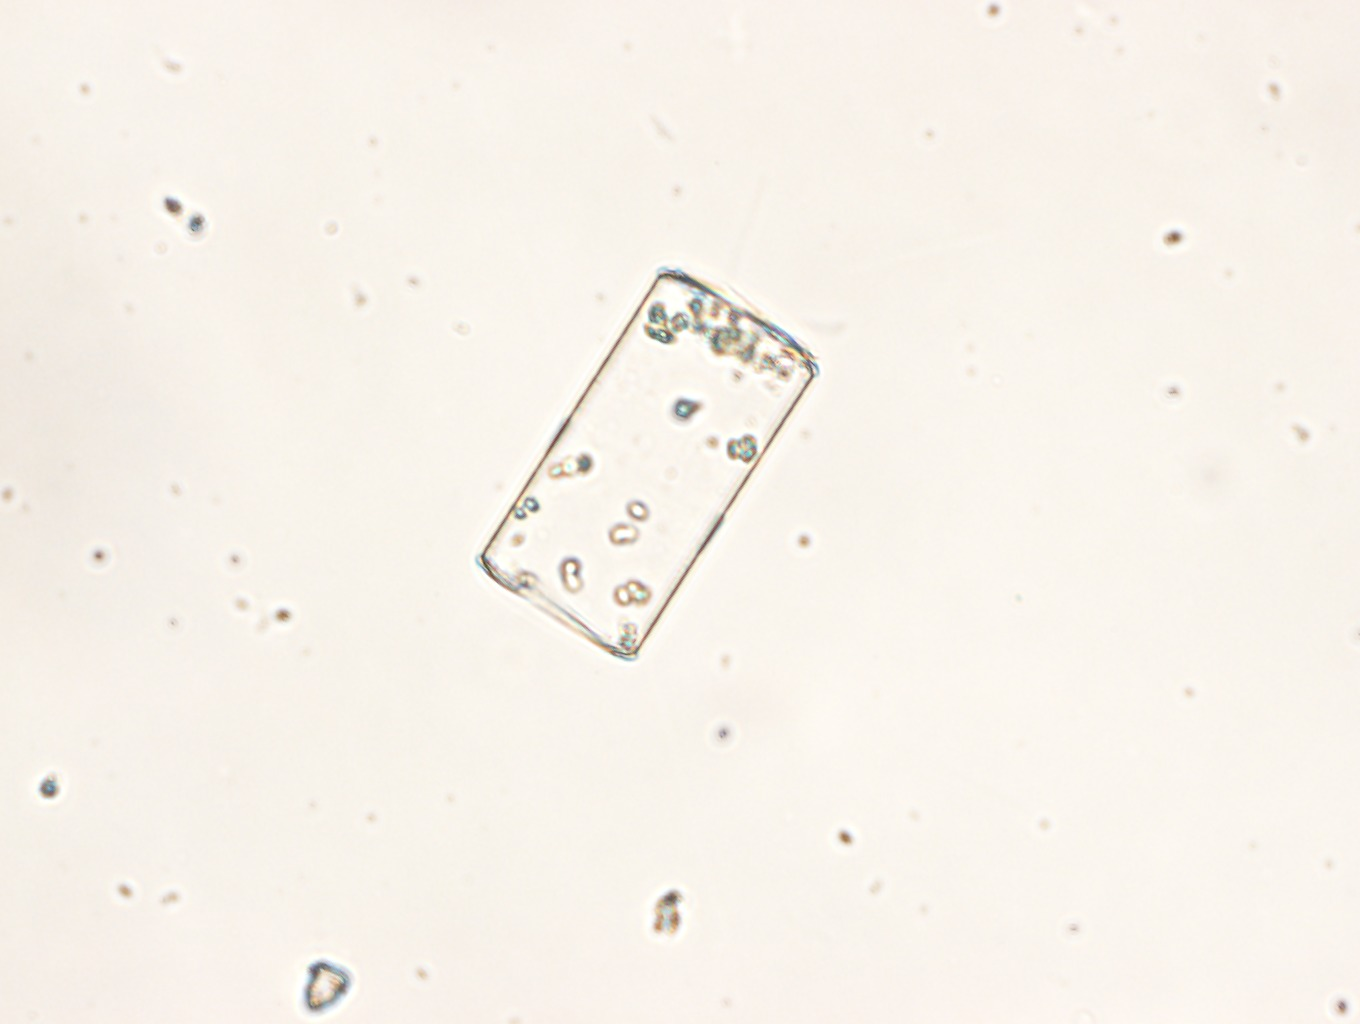guinardia flaccida: (481, 268, 819, 659)
